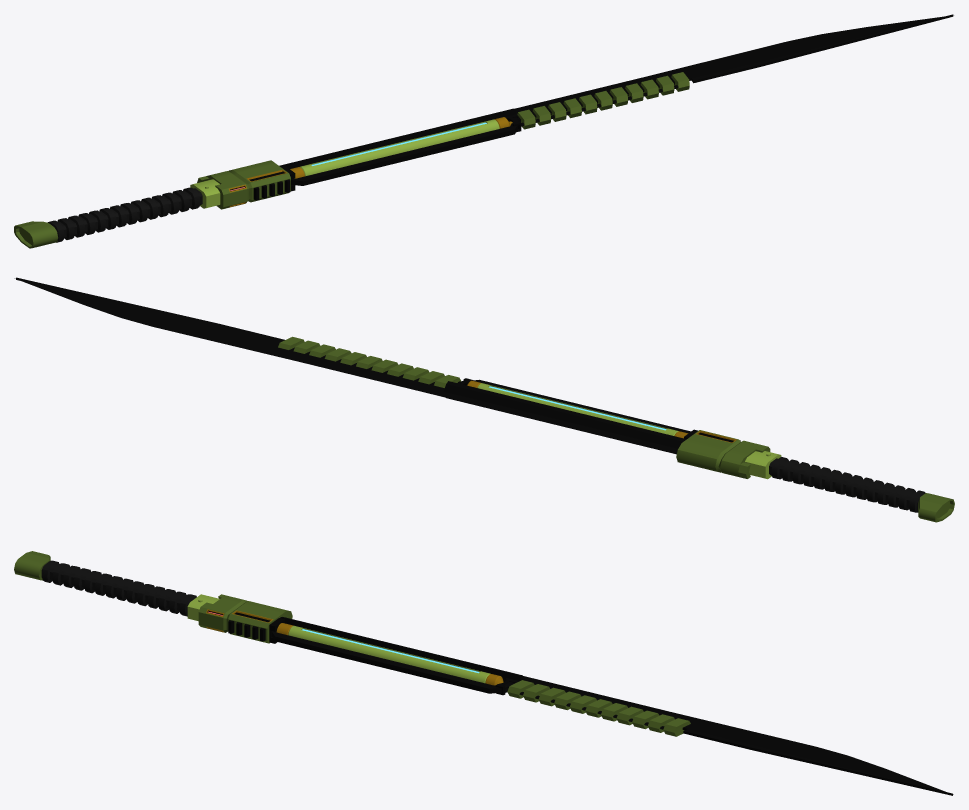
Rendered from Cyber Katana.fbx.
3 renders of one model, top to bottom at view 1: azimuth 30°, elevation 25°; view 2: azimuth 150°, elevation 25°; view 3: azimuth 330°, elevation 25°, orthographic.
Visible parts, largest first — view 1: Blade001; view 2: Blade001; view 3: Blade001.
Boxes of the visible parts, x1=… form: Blade001: x1=14, y1=14, x2=953, y2=248; Blade001: x1=14, y1=277, x2=954, y2=522; Blade001: x1=14, y1=551, x2=953, y2=795.
Size of the model in its own units: 142 by 2.89 by 7.24.
